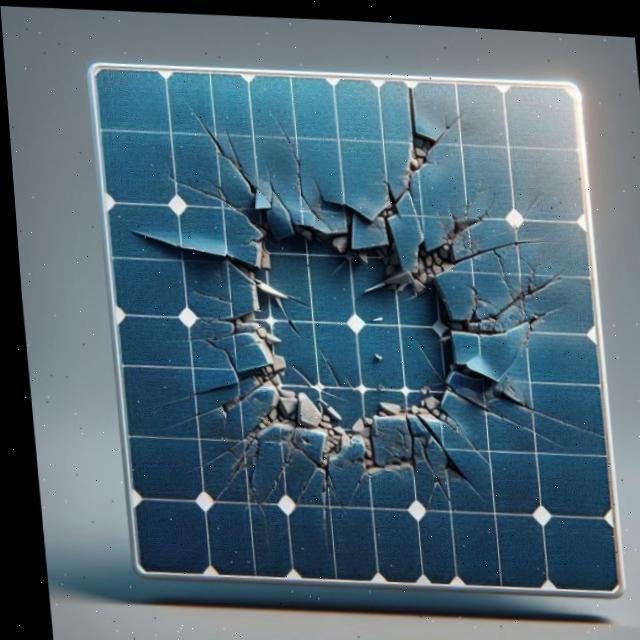Anomaly Solar Panel: (92, 64, 611, 585)
Structural Damage: (174, 166, 510, 490), (227, 419, 351, 559), (444, 219, 565, 342), (267, 100, 331, 231), (156, 378, 270, 451), (161, 156, 268, 230), (187, 91, 261, 196), (440, 377, 556, 439), (173, 431, 265, 508), (404, 188, 479, 282), (471, 294, 573, 350), (411, 405, 475, 494), (495, 384, 600, 431), (166, 312, 234, 368), (452, 225, 543, 261), (126, 224, 224, 257), (414, 428, 444, 506), (398, 122, 437, 176), (427, 94, 469, 139), (458, 430, 487, 459), (147, 388, 190, 406), (188, 284, 229, 301), (405, 79, 419, 126)
